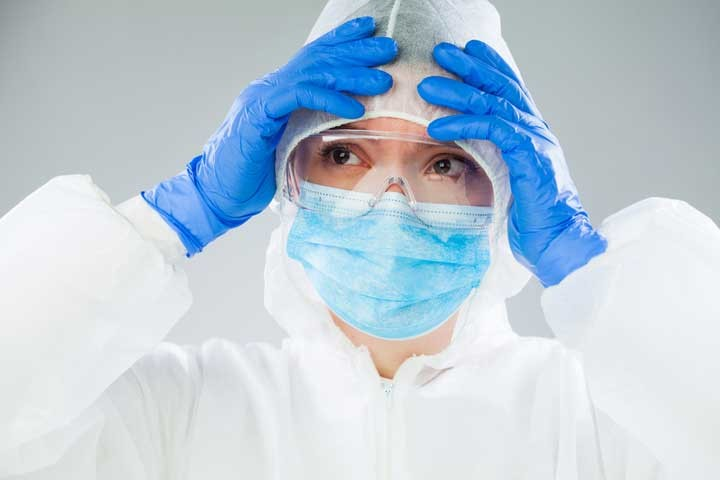Coverall: (1, 171, 720, 480)
Gloves: (146, 18, 396, 254), (418, 36, 607, 292)
Goggles: (284, 131, 496, 230)
with_mask: (289, 140, 500, 343)
